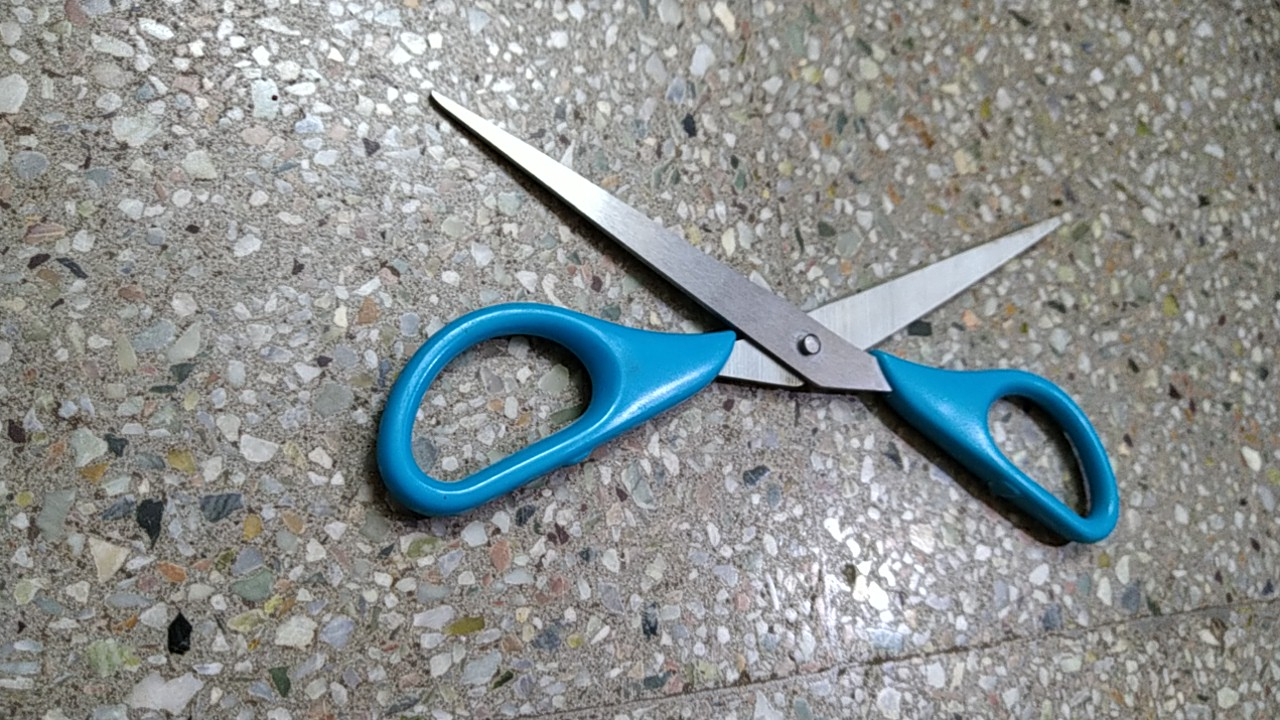scissor: (358, 73, 1139, 572)
